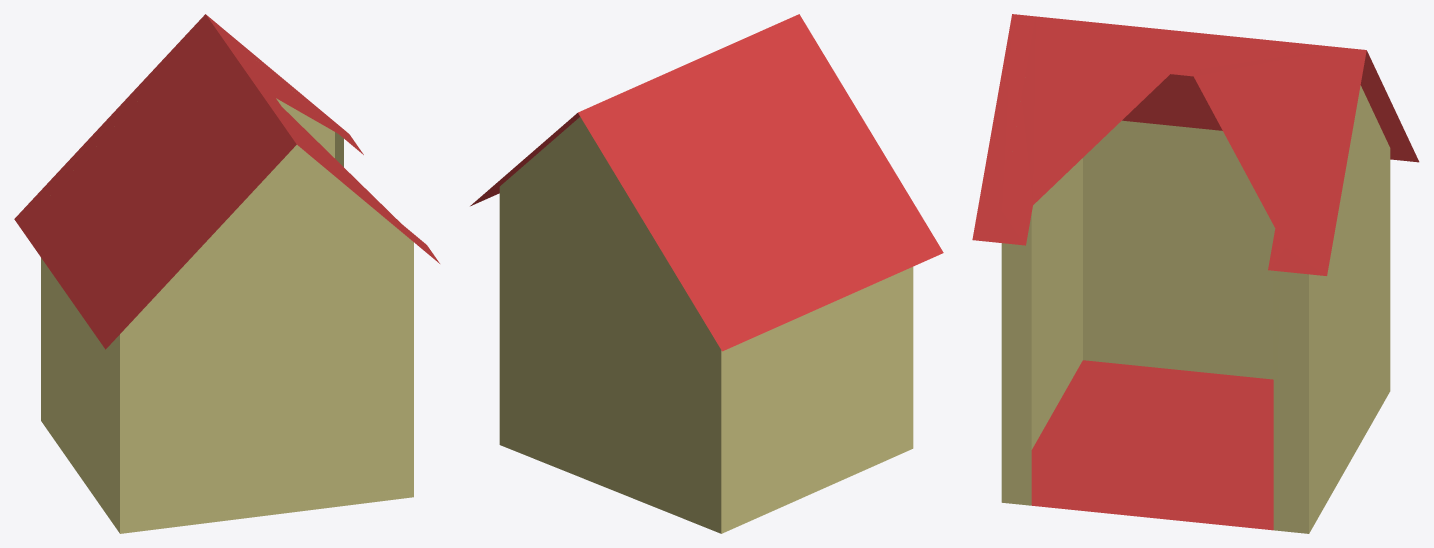
3 renders of one model, left to right at view 1: azimuth 30°, elevation 25°; view 2: azimuth 150°, elevation 25°; view 3: azimuth 270°, elevation 25°, orthographic. The views are drawn at different scales.
Bounding box in the file's own units: 14.47 × 13.77 × 14.49.
